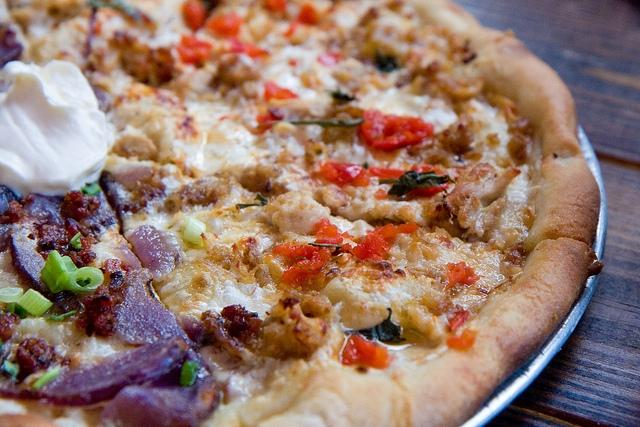green onion: (40, 250, 69, 293), (16, 288, 54, 316), (68, 266, 104, 294), (181, 216, 206, 247), (32, 368, 58, 389), (179, 360, 199, 386), (62, 256, 78, 278), (82, 182, 102, 196)
tomato: (358, 109, 436, 151), (342, 334, 393, 369), (319, 160, 370, 188), (282, 252, 322, 286), (282, 4, 320, 37), (348, 231, 384, 262), (177, 35, 212, 65), (206, 12, 241, 40), (366, 223, 398, 253), (447, 324, 480, 350), (446, 262, 485, 284), (262, 81, 300, 102), (396, 186, 444, 202), (182, 2, 206, 32), (314, 233, 344, 252), (446, 309, 469, 332), (256, 106, 284, 124), (246, 43, 269, 58), (263, 0, 287, 12), (316, 224, 338, 237), (327, 51, 346, 63)
